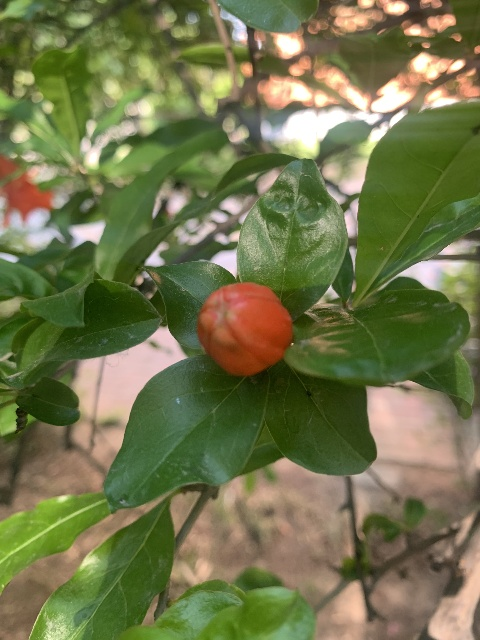bud: (196, 283, 293, 377)
flower: (0, 154, 54, 227)
